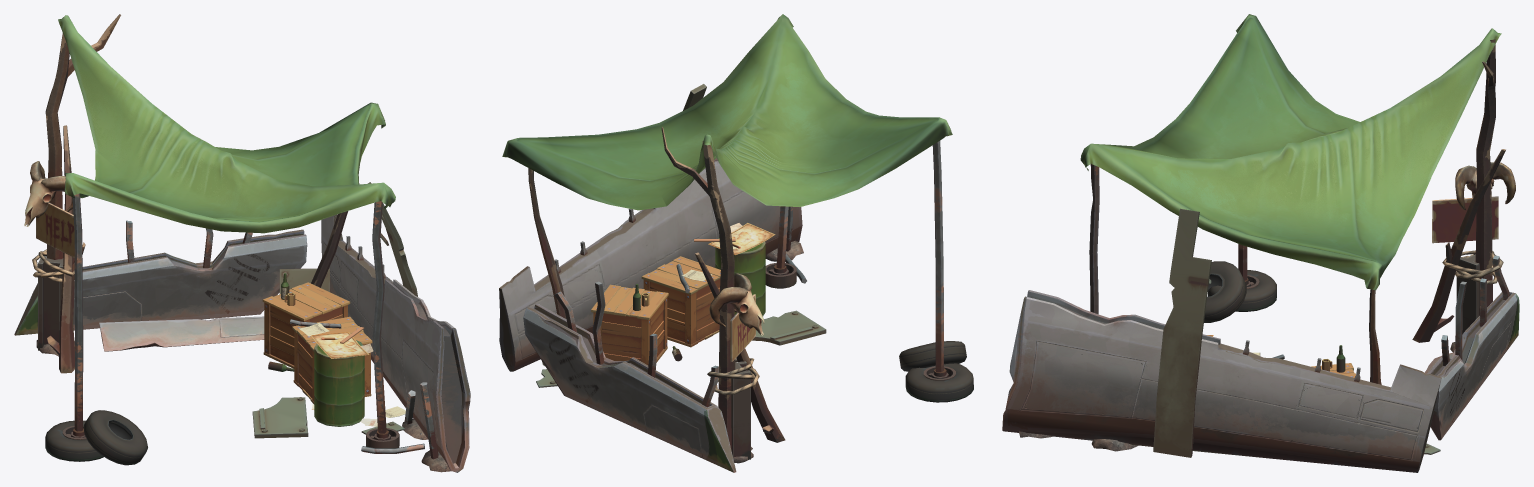
File: prop-survivors-tent.glb
3 renders of one model, left to right at view 1: azimuth 30°, elevation 25°; view 2: azimuth 150°, elevation 25°; view 3: azimuth 270°, elevation 25°, orthographic. The views are drawn at different scales.
Parts seen in each view (by area): view 1: SurvivorsTent; view 2: SurvivorsTent; view 3: SurvivorsTent.
Part boxes in pixels (bbox=[...]): SurvivorsTent: bbox=[14, 14, 470, 472]; SurvivorsTent: bbox=[499, 14, 973, 472]; SurvivorsTent: bbox=[1002, 14, 1519, 472].
Size of the model in its own units: 3.82 by 2.95 by 4.18.
1 material, 1 textured.
